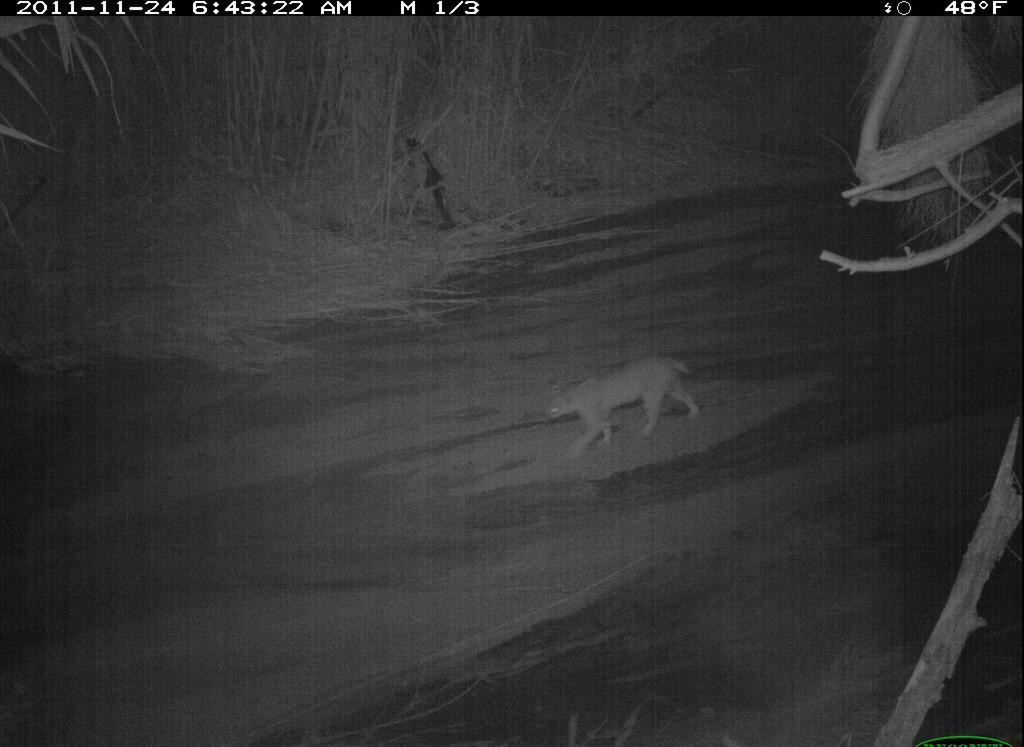bobcat: (534, 346, 710, 464)
